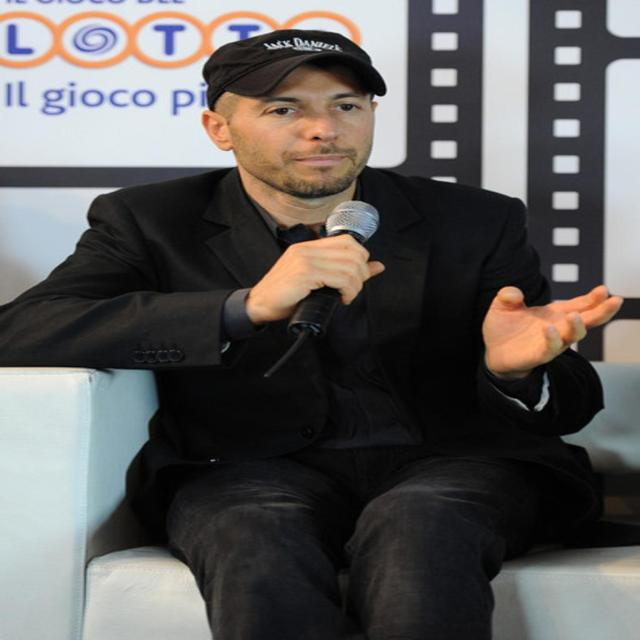Face: (210, 75, 387, 200)
